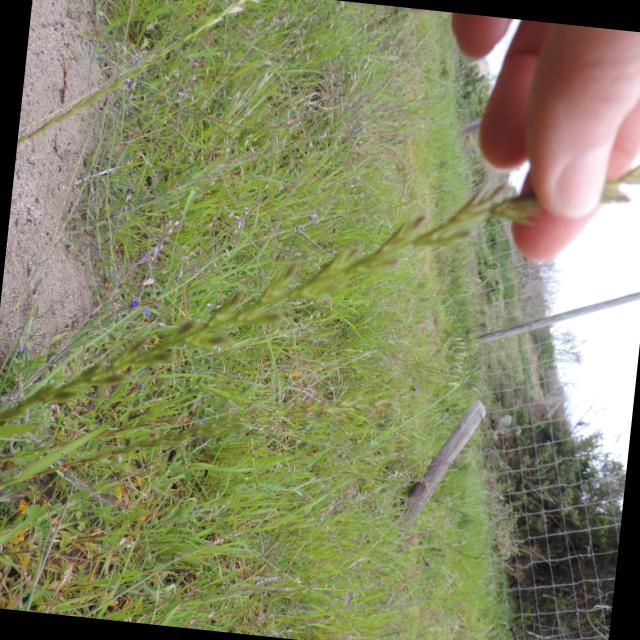Lolium: (0, 84, 640, 491), (18, 0, 263, 169)
